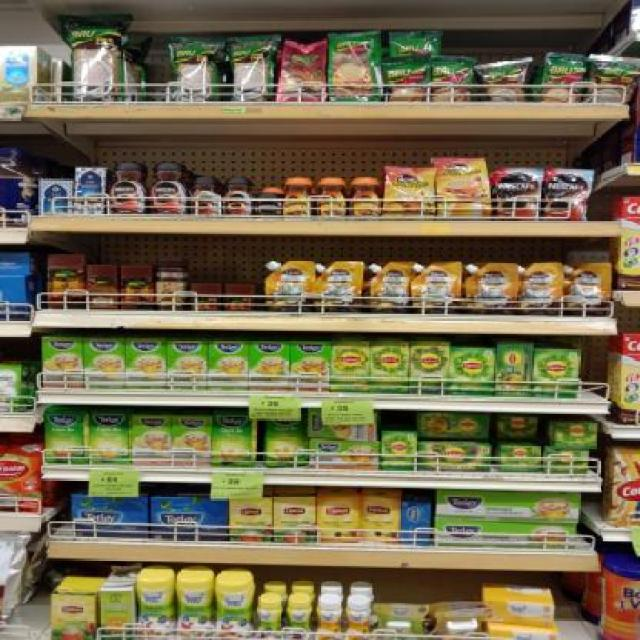Coffee: (437, 158, 489, 216), (386, 168, 434, 218), (543, 170, 591, 219), (494, 168, 538, 220), (150, 161, 187, 214), (110, 162, 147, 213), (316, 178, 349, 216), (350, 178, 382, 216), (190, 178, 222, 214), (285, 178, 313, 216), (223, 178, 252, 214), (255, 192, 280, 214)
